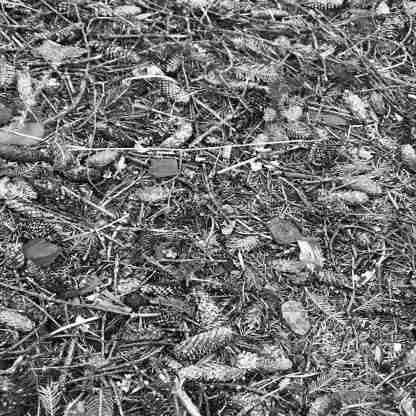plastic: (290, 231, 333, 278)
